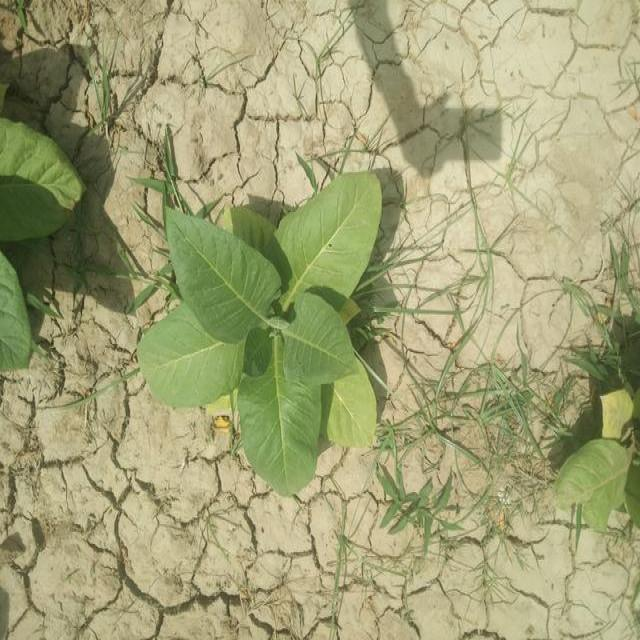crop: (142, 172, 390, 494), (0, 101, 85, 374)
